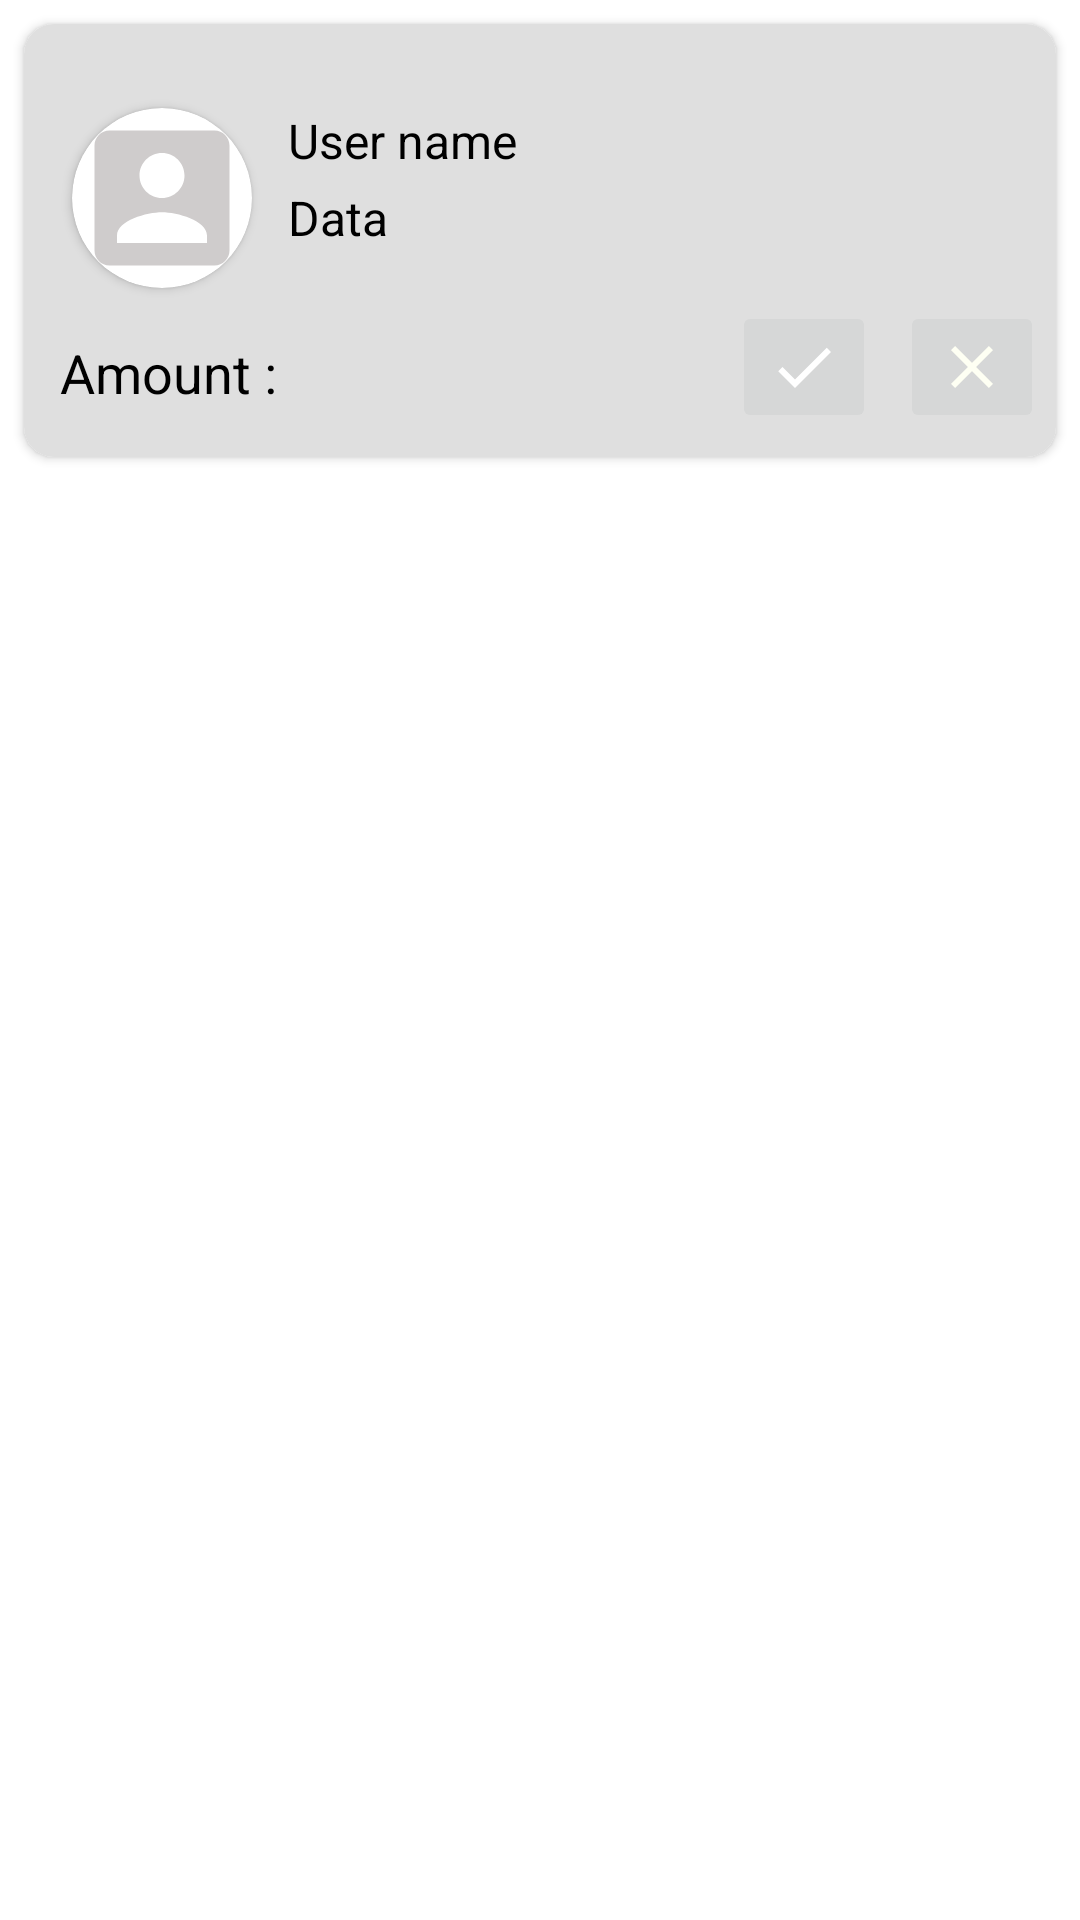

Icon click points for this 1080 × 1920 phone screenshot, format point (x, y):
account pic: point (162, 198)
check: point (804, 367)
close: point (972, 367)
